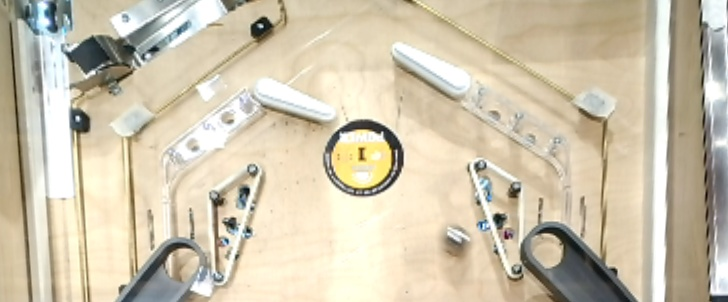ball: (440, 223, 475, 257)
flipper-left: (389, 39, 475, 101)
flipper-right: (255, 75, 339, 127)
